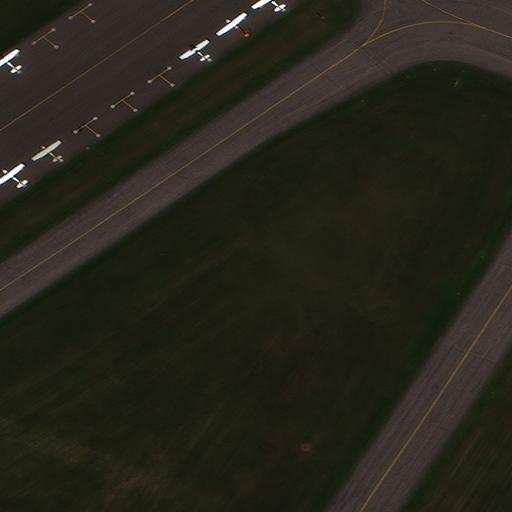Small Civil Transport: (215, 11, 247, 35), (30, 139, 58, 160), (178, 38, 206, 59), (0, 163, 25, 186), (0, 48, 18, 71), (251, 0, 281, 9)
